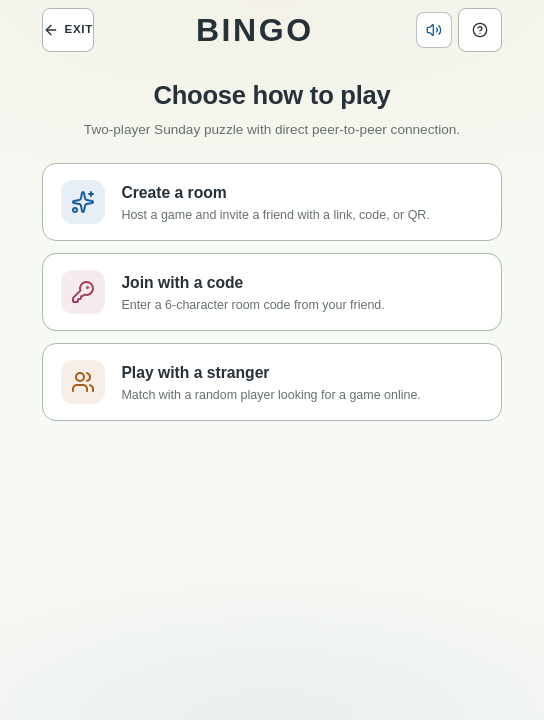
Test: BingoOnlineGame entry flow and state machine › Play with a stranger error shows connection failed and Retry button
Click the button "Play with a stranger".
click(272, 382)  # box [42, 343, 502, 421]
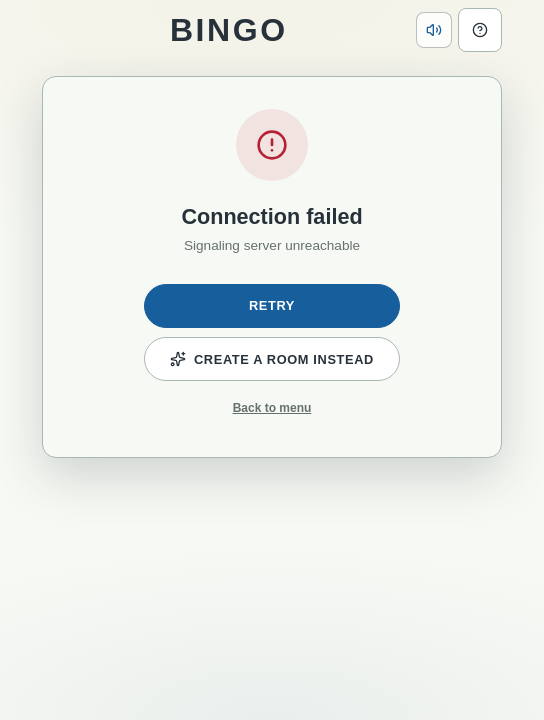
Expected: the heading "Connection failed" is shown, [181, 201, 363, 233]
Expected: the text "Signaling server unreachable" is shown, [181, 237, 363, 256]
Expected: the button "Retry" is shown, [144, 284, 400, 328]
